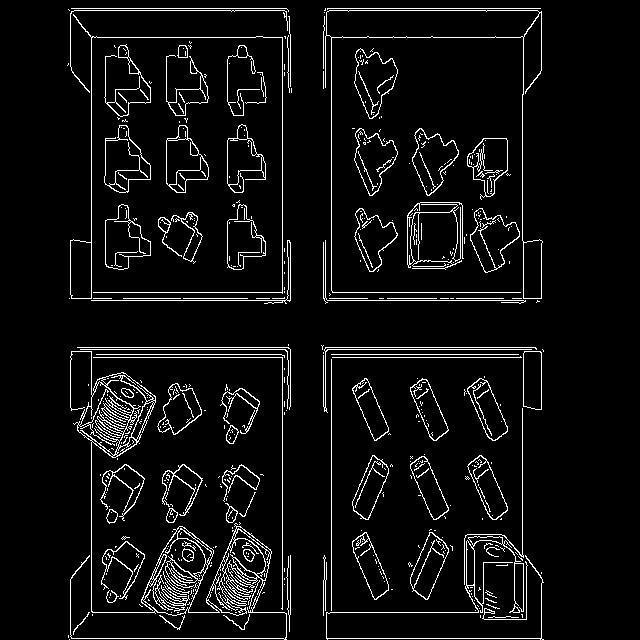Battery: (402, 529, 458, 605), (343, 532, 397, 604), (464, 372, 518, 442), (459, 460, 519, 522), (404, 458, 458, 524), (346, 375, 396, 444), (406, 378, 456, 441), (351, 450, 396, 520)
Pump: (74, 366, 158, 458), (140, 528, 214, 631), (204, 536, 278, 634), (461, 526, 531, 624), (404, 190, 469, 278)
Regulator: (147, 456, 217, 526), (211, 462, 279, 526), (218, 374, 272, 444), (156, 205, 214, 268), (466, 123, 514, 197), (154, 373, 207, 439), (95, 461, 148, 526), (102, 539, 146, 605)
Sensor: (94, 125, 158, 203), (95, 42, 157, 121), (410, 116, 468, 200), (339, 124, 402, 200), (217, 120, 276, 198), (462, 200, 519, 280), (216, 203, 274, 273), (343, 205, 401, 275), (164, 120, 212, 197), (99, 208, 152, 274), (354, 49, 398, 120), (166, 45, 208, 116), (228, 45, 266, 116)
